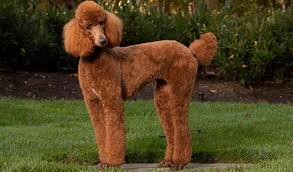Poodle: (52, 1, 236, 169)
